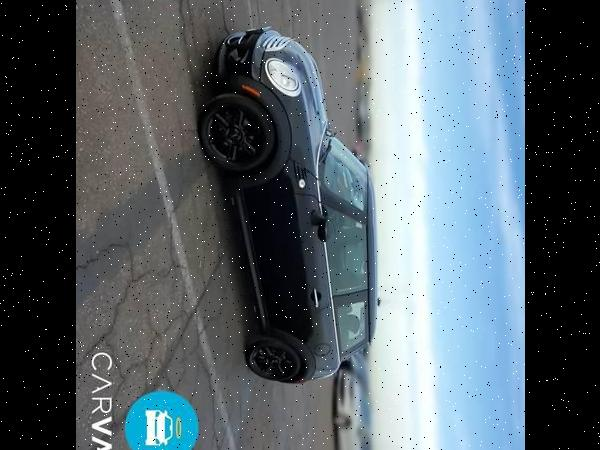Front_Bumper: (218, 26, 280, 94)
Front_Fender: (233, 84, 321, 202)
Front_Left_Door: (237, 198, 331, 322)
Front_Left_Window: (319, 204, 369, 299)
Front_Windshield: (316, 126, 367, 214)
Grille: (264, 31, 296, 50)
Hood: (261, 37, 328, 172), (268, 57, 302, 96)
Left_Headlight: (264, 58, 302, 96)
Rear_Fender: (265, 293, 370, 383)
Roof: (322, 174, 380, 349)
Wheel: (201, 94, 276, 172), (246, 340, 298, 383)
